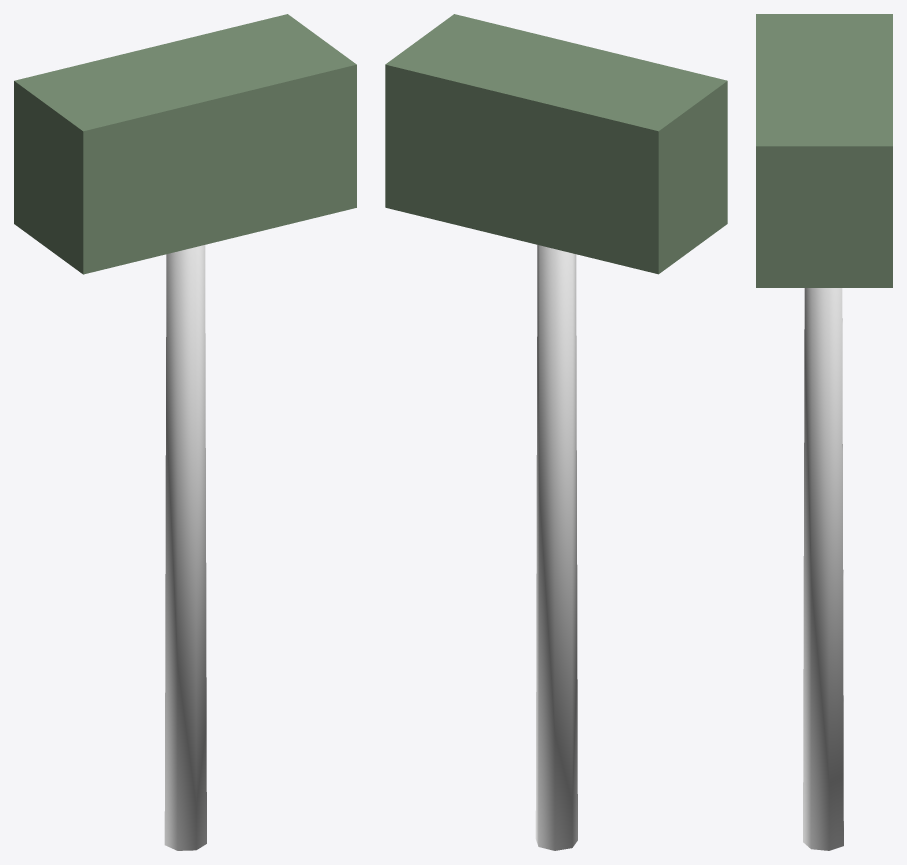
Rendered from tungsten_hammer.glb.
The picture shows the model from 3 angles, left to right: view 1: azimuth 30°, elevation 25°; view 2: azimuth 150°, elevation 25°; view 3: azimuth 270°, elevation 25°; orthographic projection.
Visible parts, largest first — view 1: tungsten_hammer_v0; view 2: tungsten_hammer_v0; view 3: tungsten_hammer_v0.
Part boxes in pixels (<box>): tungsten_hammer_v0: <box>14,14,356,850</box>; tungsten_hammer_v0: <box>385,14,727,850</box>; tungsten_hammer_v0: <box>756,14,892,850</box>.
Size of the model in its own units: 0.32 by 0.86 by 0.14.
